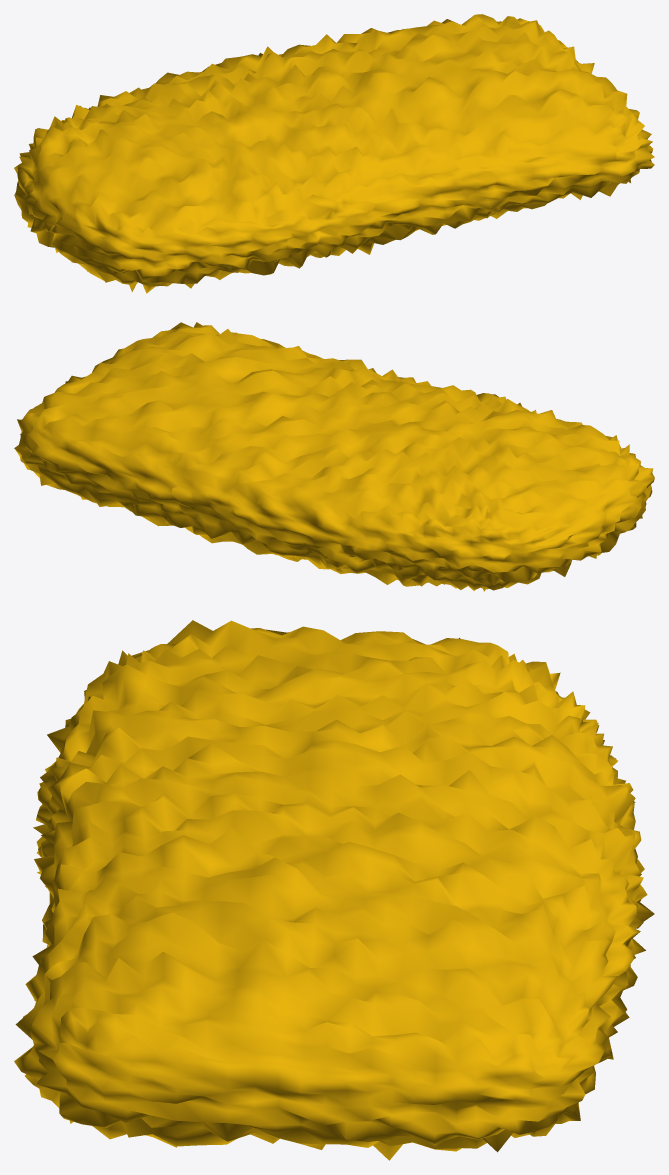
File: チキン.fbx
3 views of the same model, one above another, from view 1: azimuth 30°, elevation 25°; view 2: azimuth 150°, elevation 25°; view 3: azimuth 270°, elevation 25° (orthographic). The views are drawn at different scales.
Visible parts, largest first — view 1: オブジェクト; view 2: オブジェクト; view 3: オブジェクト.
Part boxes in pixels (x1=…): オブジェクト: x1=14, y1=14, x2=654, y2=293; オブジェクト: x1=14, y1=322, x2=654, y2=591; オブジェクト: x1=14, y1=620, x2=654, y2=1160.
Bounding box in the file's own units: 3.15 × 0.6349 × 1.86.
